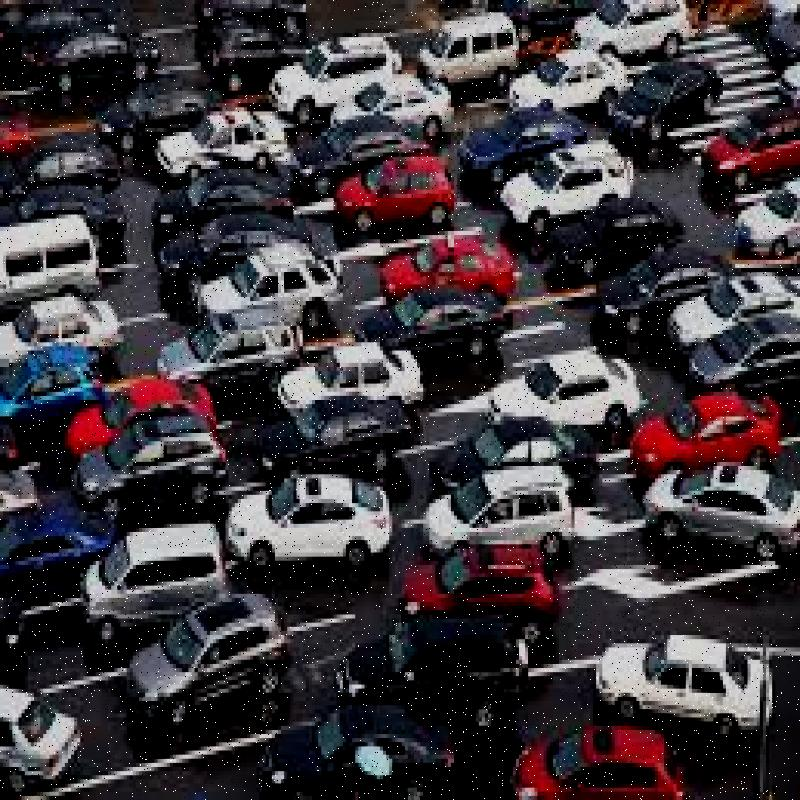car: (634, 368, 772, 517), (528, 184, 682, 299), (503, 124, 636, 256), (432, 456, 580, 567), (87, 390, 218, 514), (608, 622, 771, 721), (216, 236, 360, 348), (152, 598, 282, 721), (651, 452, 793, 555), (248, 476, 400, 571), (91, 516, 215, 623), (602, 52, 732, 146), (497, 337, 630, 425), (0, 342, 102, 450), (313, 323, 415, 427), (163, 99, 293, 180), (405, 227, 519, 313), (345, 148, 466, 227), (346, 64, 462, 146)
